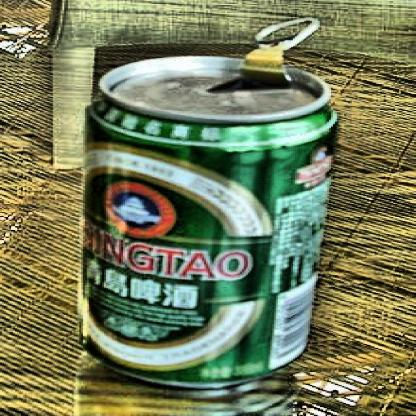Can: (76, 55, 340, 388)
